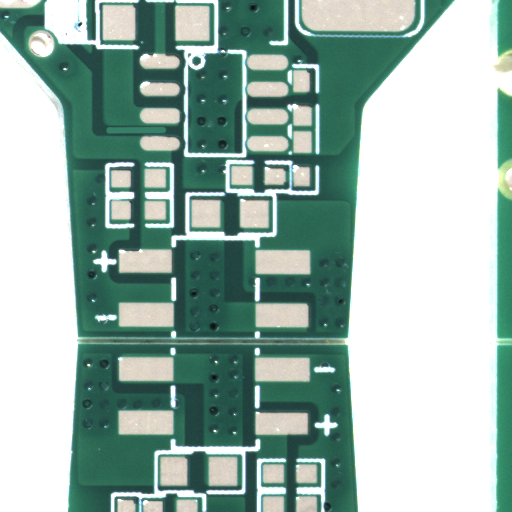Spurious_copper: (135, 130, 196, 139)
